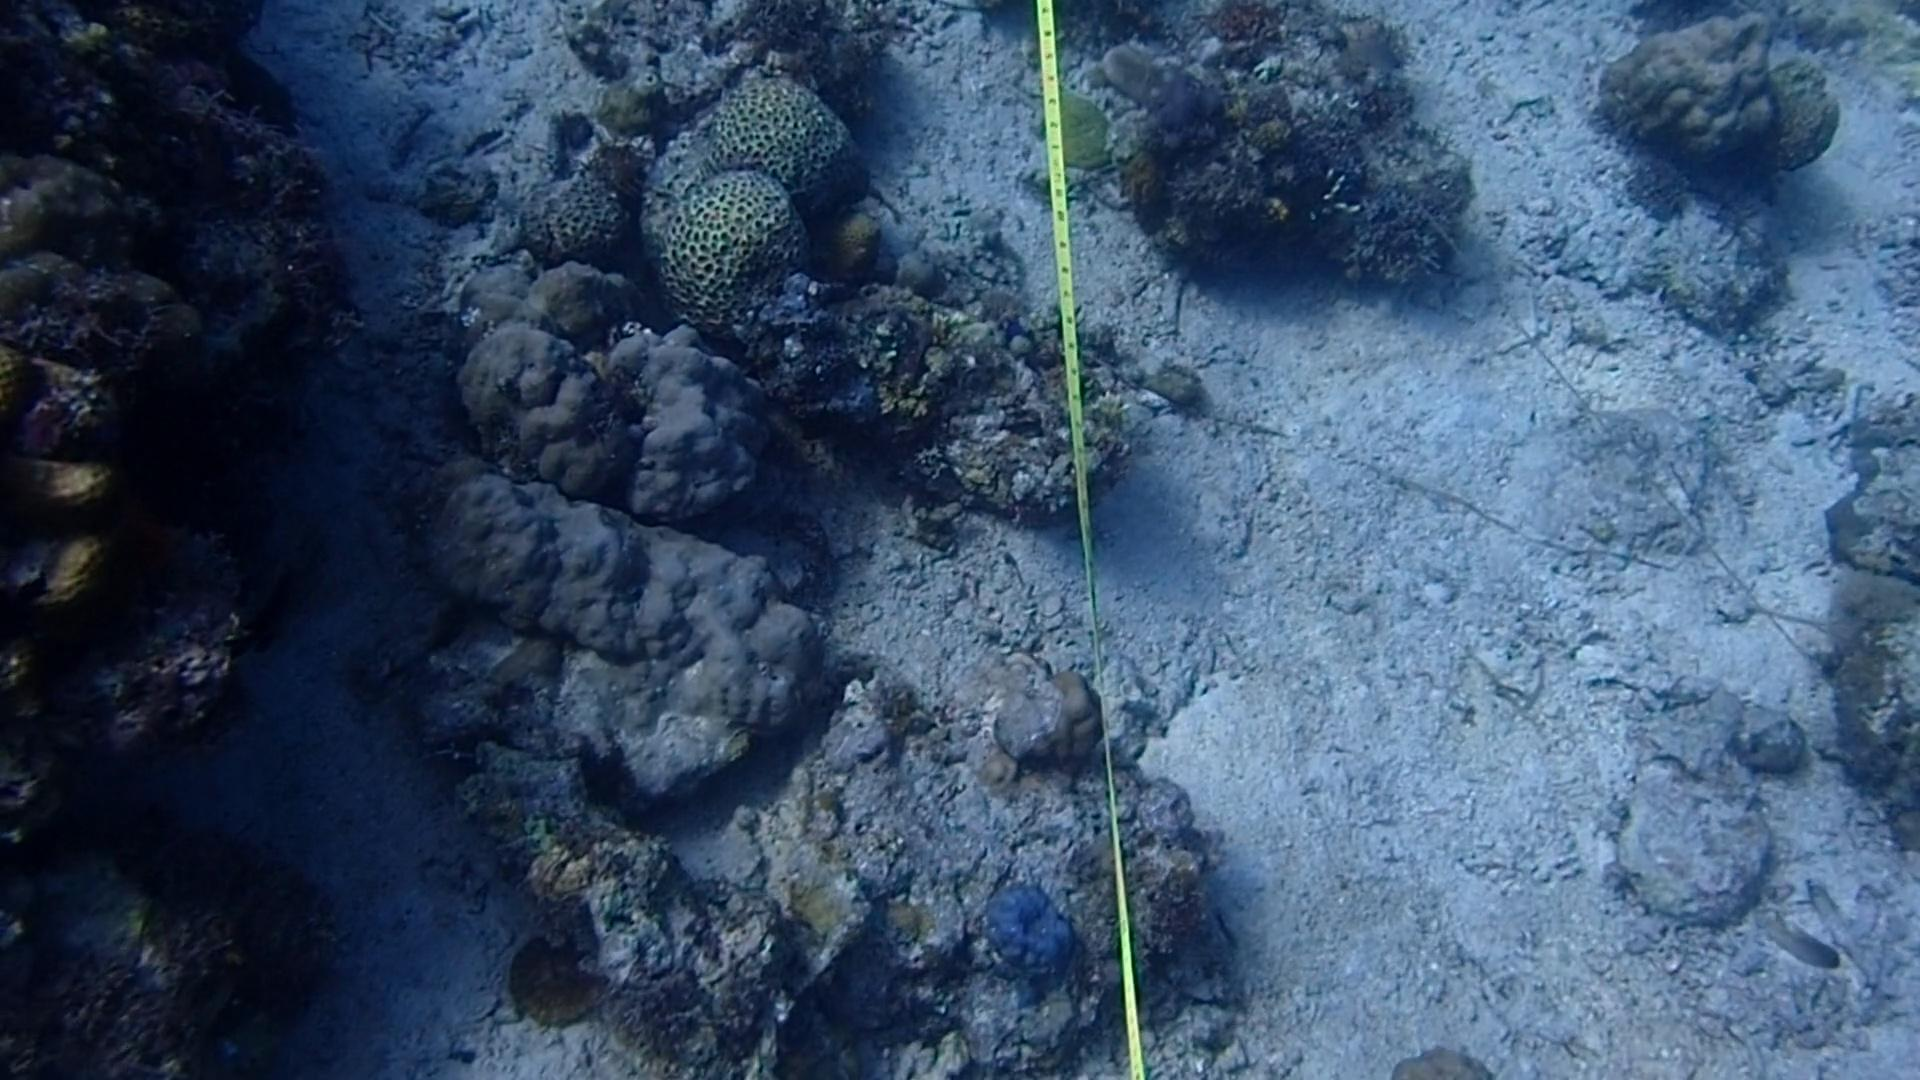Dark Fish: (446, 381, 497, 472)
Light Fish: (1738, 881, 1841, 972)
